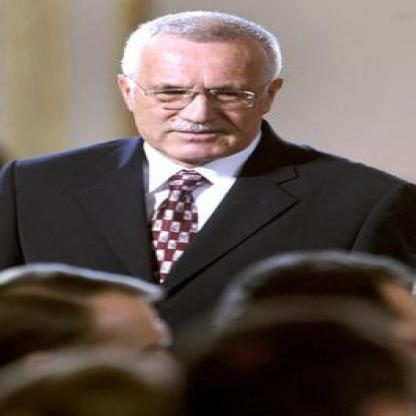face: (130, 15, 275, 163)
